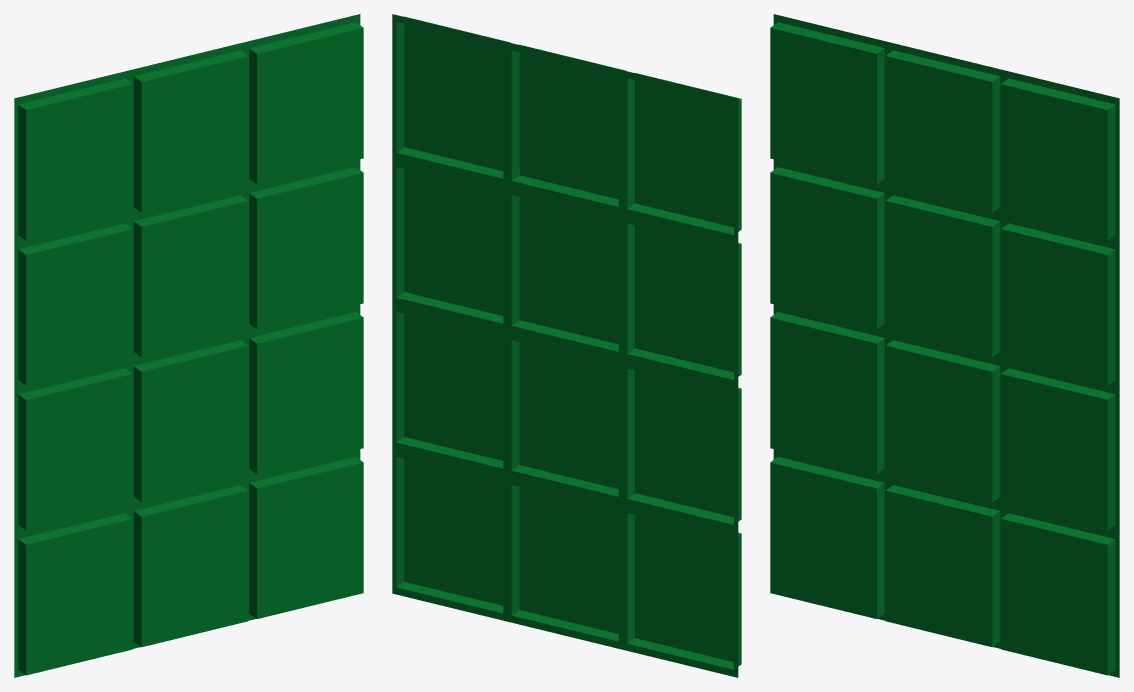
File: BackPanel.glb
3 views of the same model, side by side, from view 1: azimuth 30°, elevation 25°; view 2: azimuth 150°, elevation 25°; view 3: azimuth 330°, elevation 25° (orthographic).
Visible parts, largest first — view 1: BackPanel-col; view 2: BackPanel-col; view 3: BackPanel-col.
Part boxes in pixels (x1=…): BackPanel-col: x1=14, y1=14, x2=363, y2=677; BackPanel-col: x1=392, y1=14, x2=741, y2=677; BackPanel-col: x1=770, y1=14, x2=1119, y2=677.
Bounding box in the file's own units: 6.77 × 10.83 × 0.2624.
